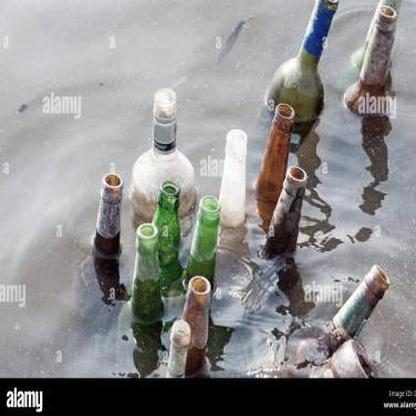plastic bottle: (262, 1, 339, 122), (129, 88, 197, 211), (82, 169, 124, 339), (122, 226, 167, 371), (344, 5, 395, 115), (324, 265, 390, 348), (265, 166, 307, 266), (176, 275, 209, 375), (255, 104, 289, 194), (219, 128, 250, 226), (150, 184, 183, 270), (189, 196, 219, 287), (162, 319, 193, 378)
